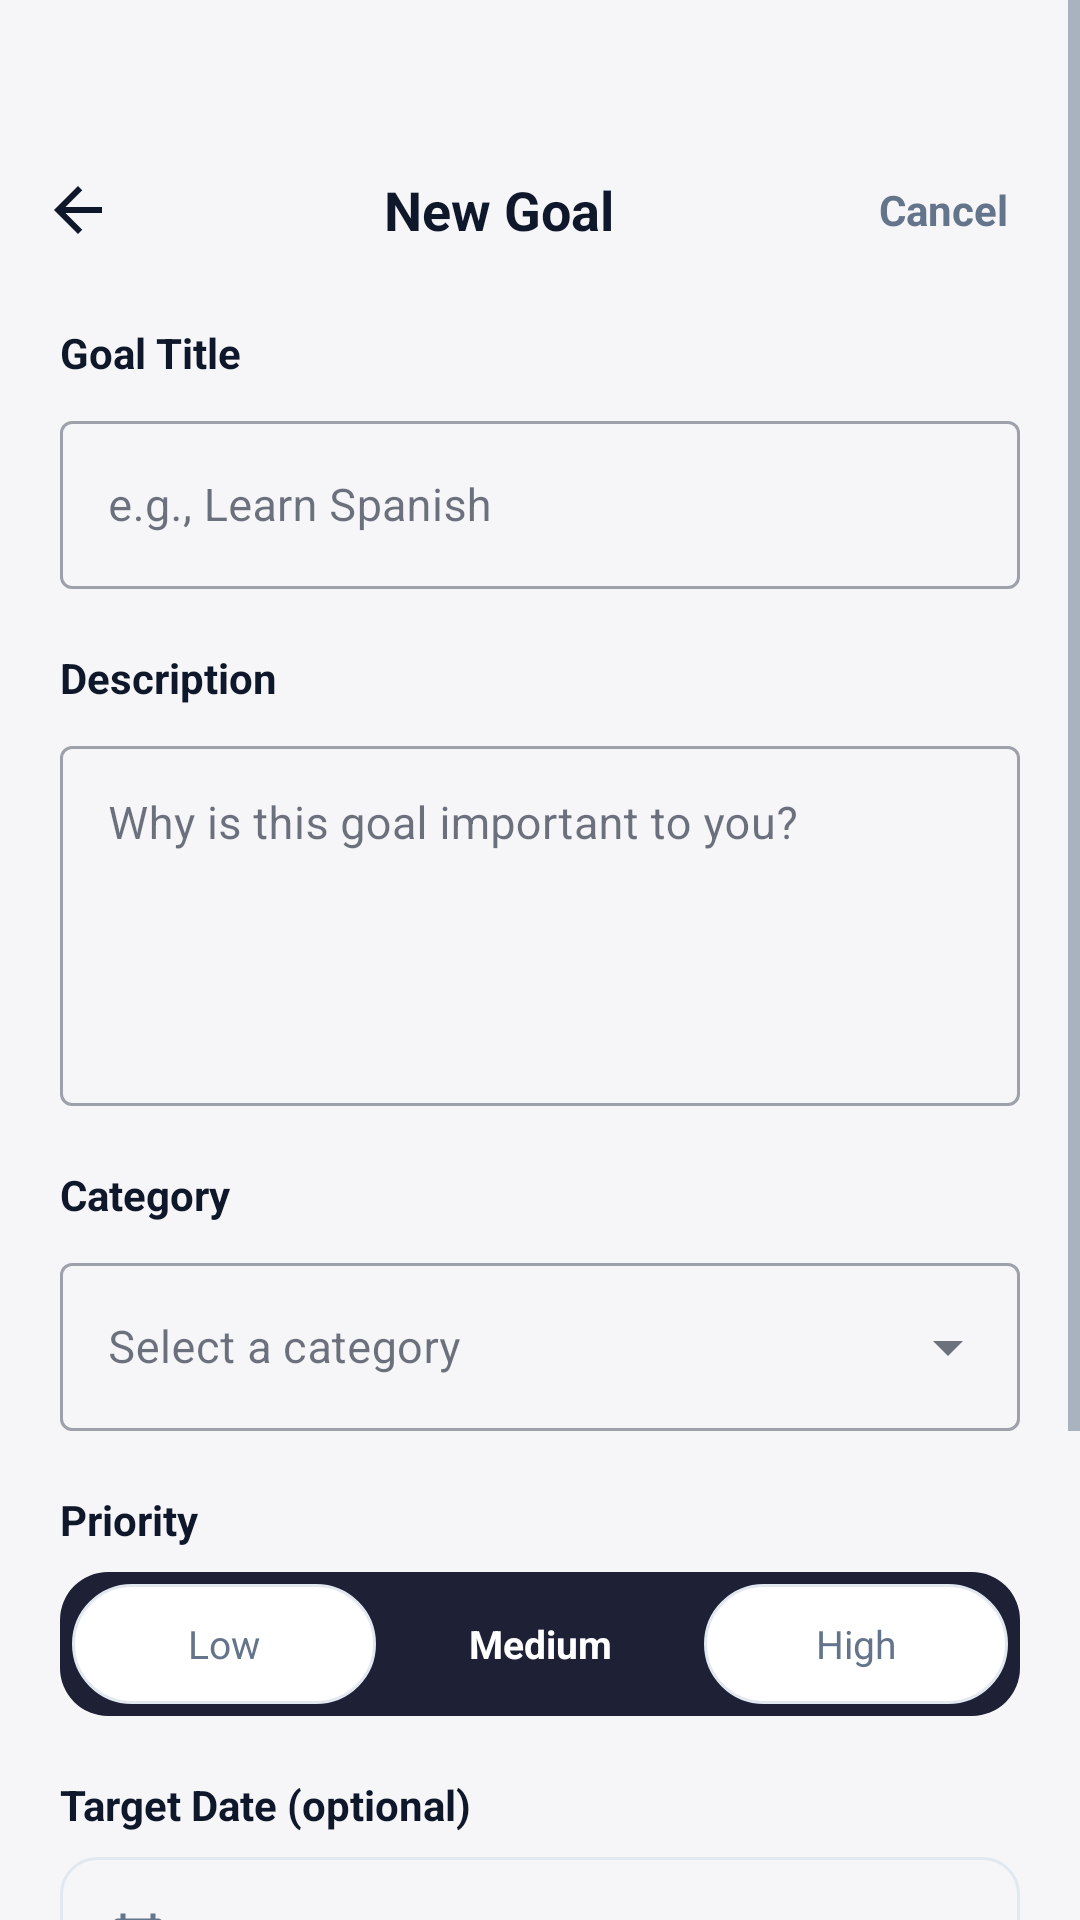

Locate icon controls on the screen. Image size 1080px x 1920px, boxes as (x1,y1,x2,y2).
arrow back: (54,186,102,234)
